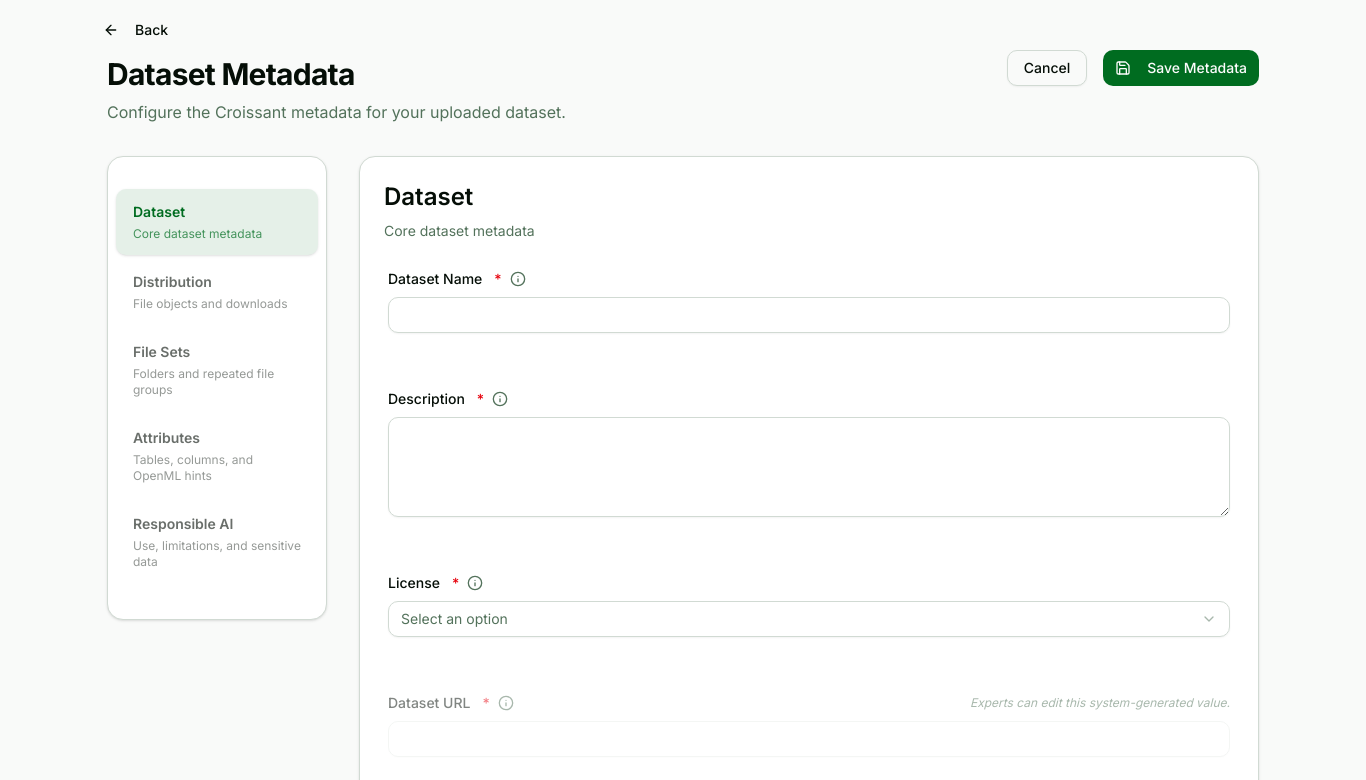
Test: CroissantMetadataPage › labels the second distribution item "File 2"
Click the tab "Distribution File objects and downloads" at [217, 292], box x1=116 y1=259 x2=318 y2=325
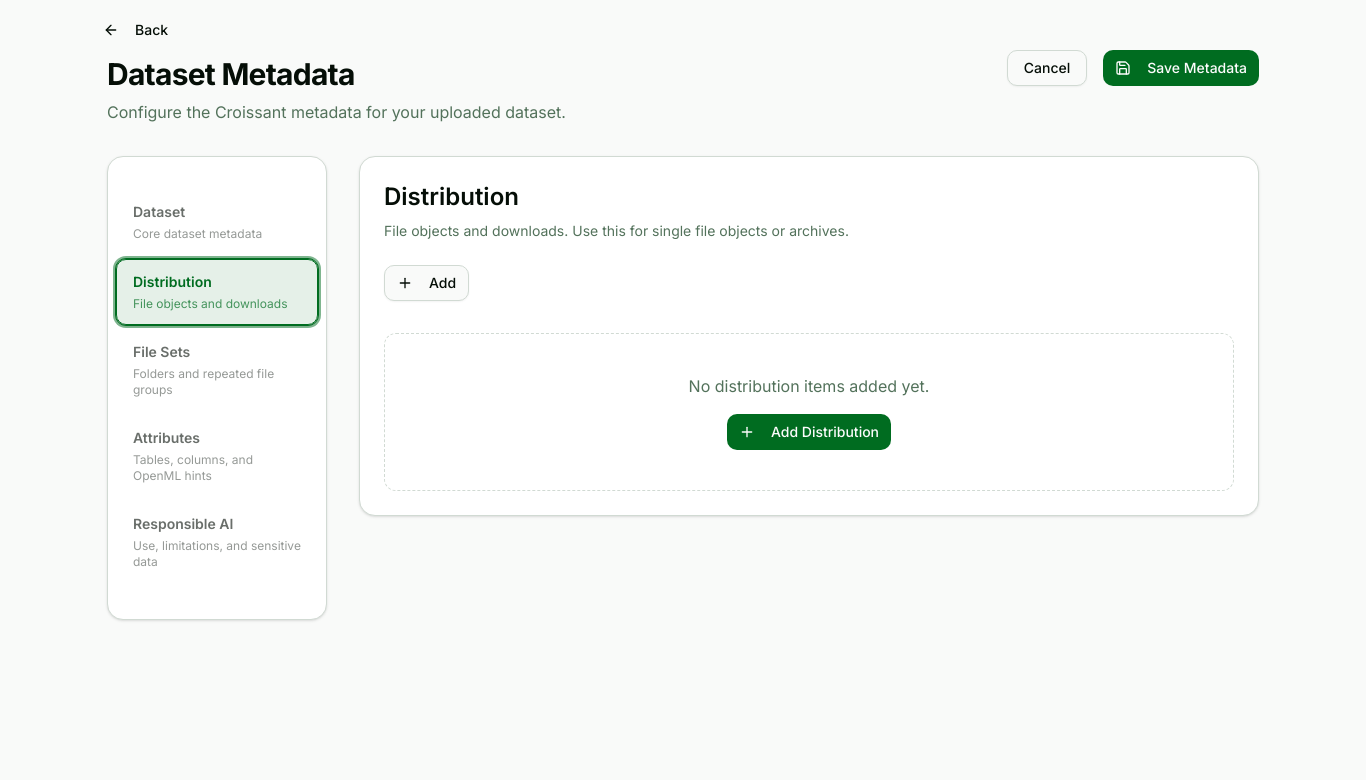
Click the button "Add Distribution" at [809, 432], box x1=727 y1=414 x2=891 y2=450
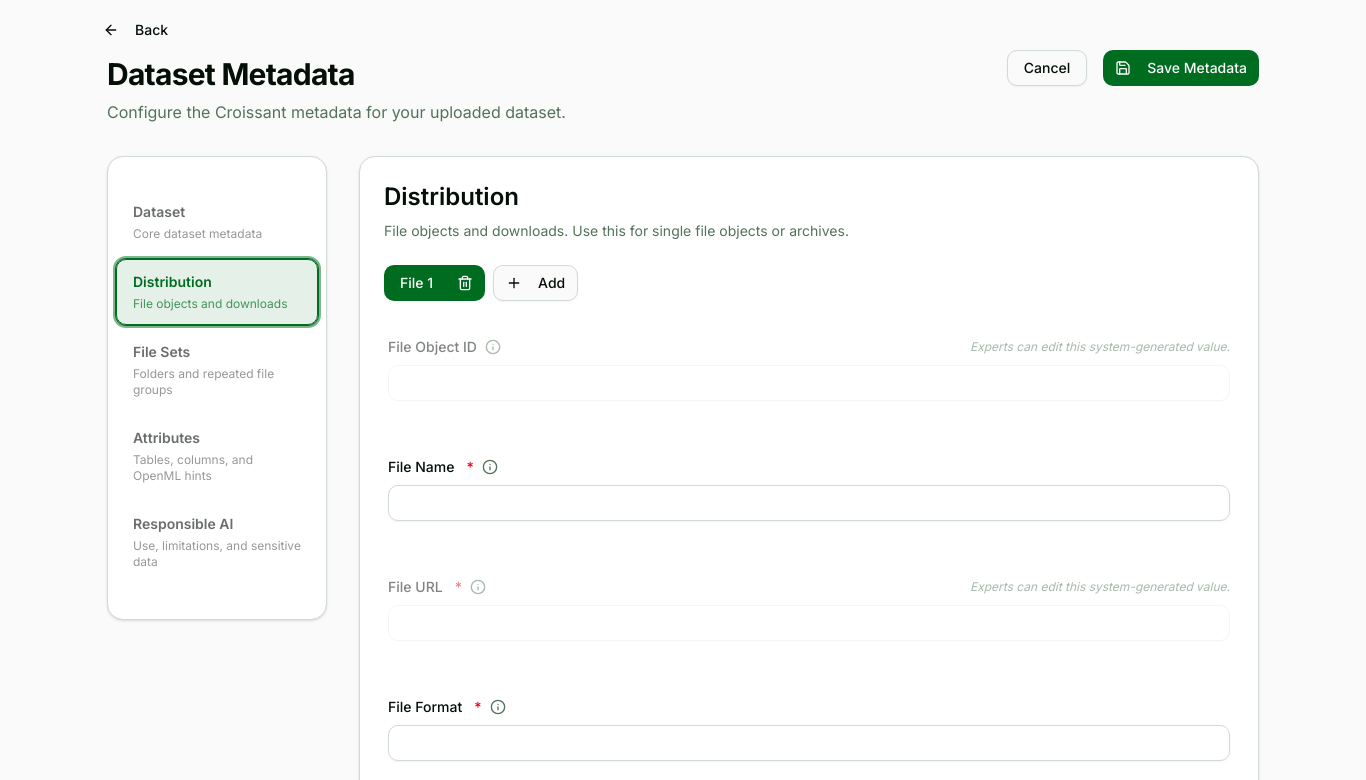
Result: the button "File 1" is shown at x1=384 y1=265 x2=445 y2=301
Click the button "Add" at [536, 283], box x1=493 y1=265 x2=578 y2=301
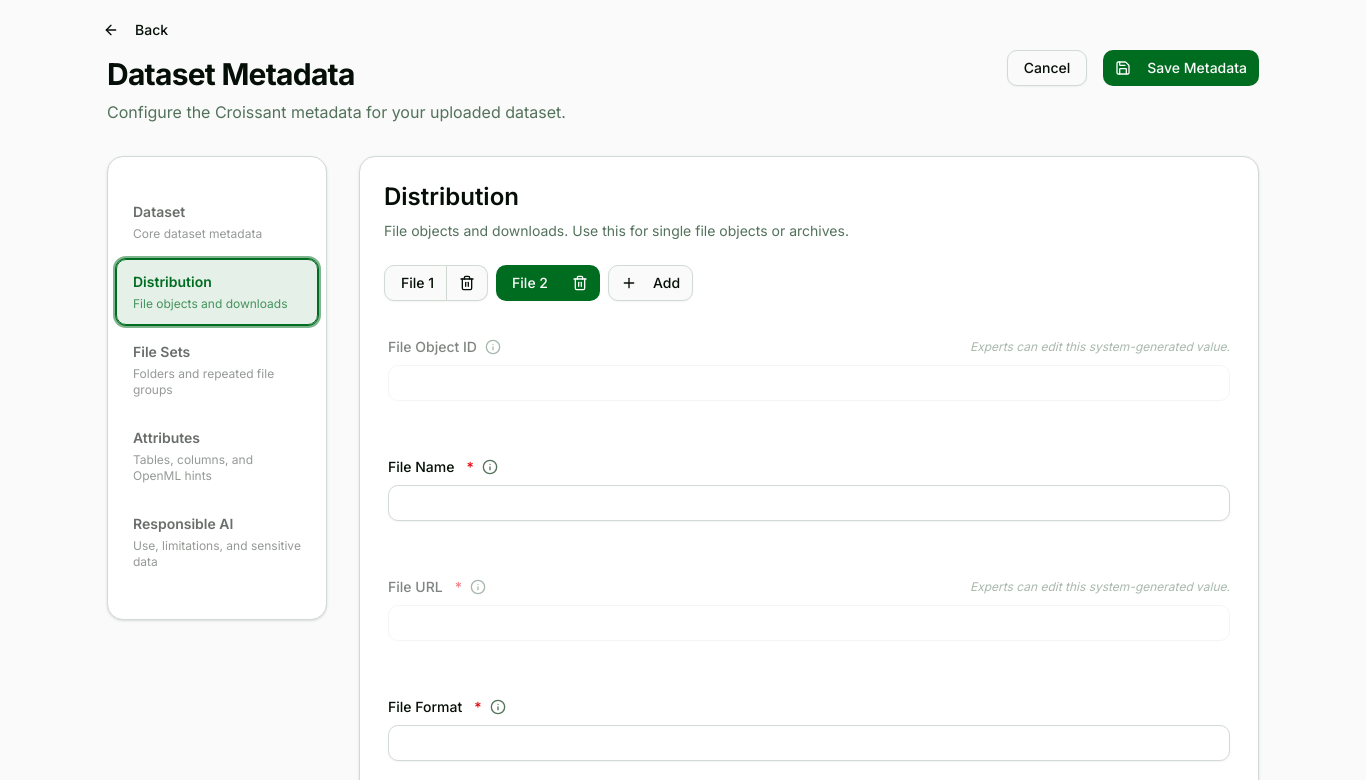
Result: the button "File 2" is shown at x1=496 y1=265 x2=560 y2=301
